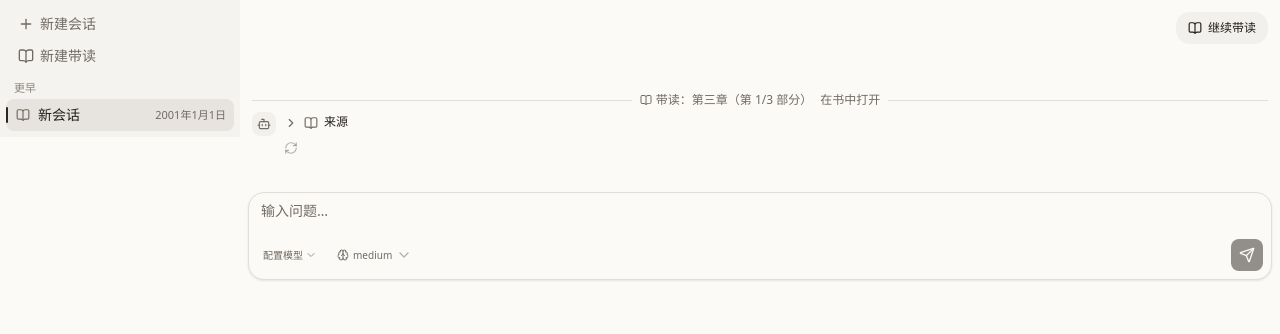
Test: ChatPanel in a Guided session › says so when a step's start cannot be found in the Book
The width and height of the screenshot is (1280, 334).
Click the button "在书中打开": click(850, 100) left=820, top=92, right=880, bottom=108
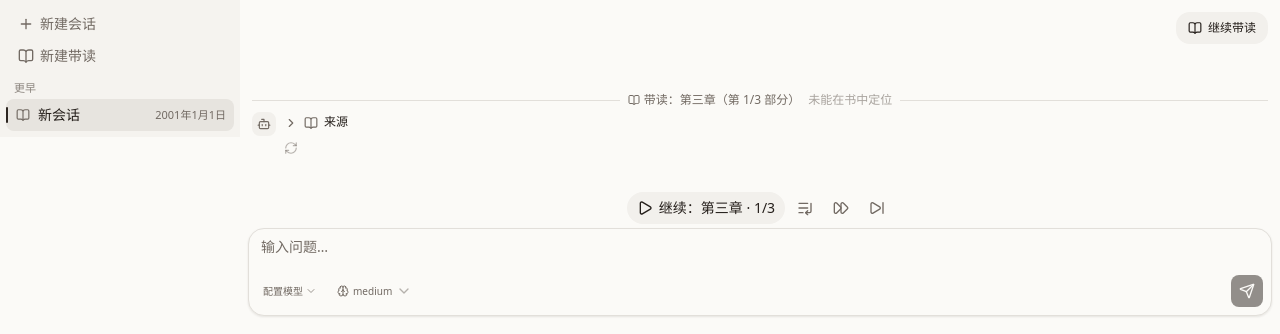
Result: the button "未能在书中定位" is shown at left=808, top=92, right=892, bottom=108
